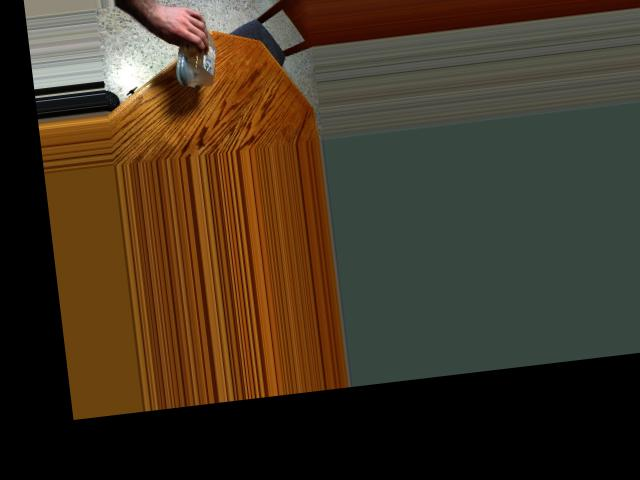cheese: (166, 19, 219, 78)
